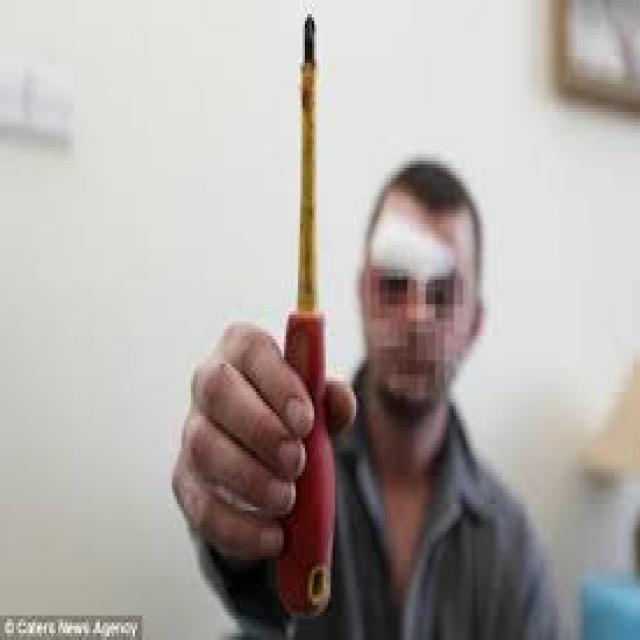screwdriver: (270, 5, 338, 628)
